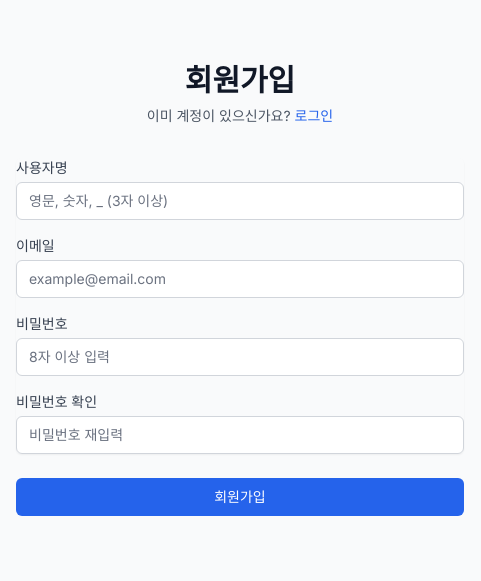
Scenario: RegisterPage › 폼 검증 - 사용자명 › 3자 미만 사용자명으로 제출 시 에러 메시지가 표시된다
This screenshot has width=481, height=581.
In the field labelled "사용자명": [240, 201] box [16,182,464,220], type "ab"
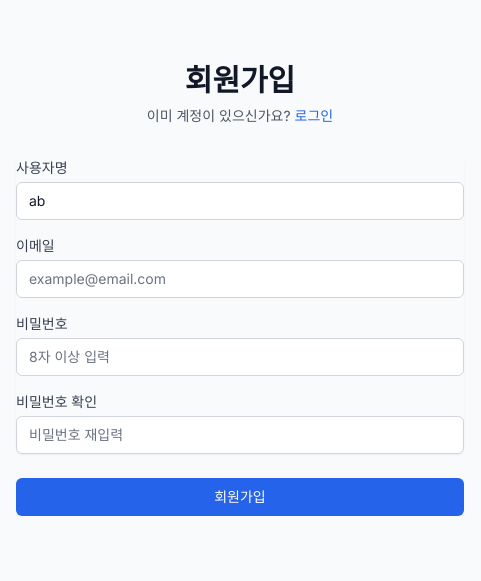
Click the button "회원가입": [240, 497] box [16,478,464,516]
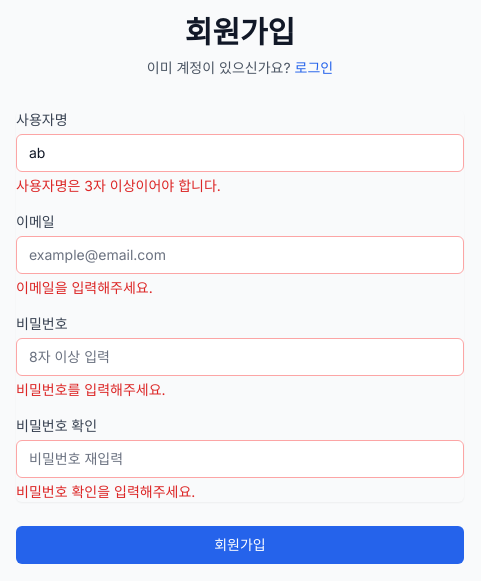
Now the text "사용자명은 3자 이상이어야 합니다." is shown, box [16,177,221,194]
